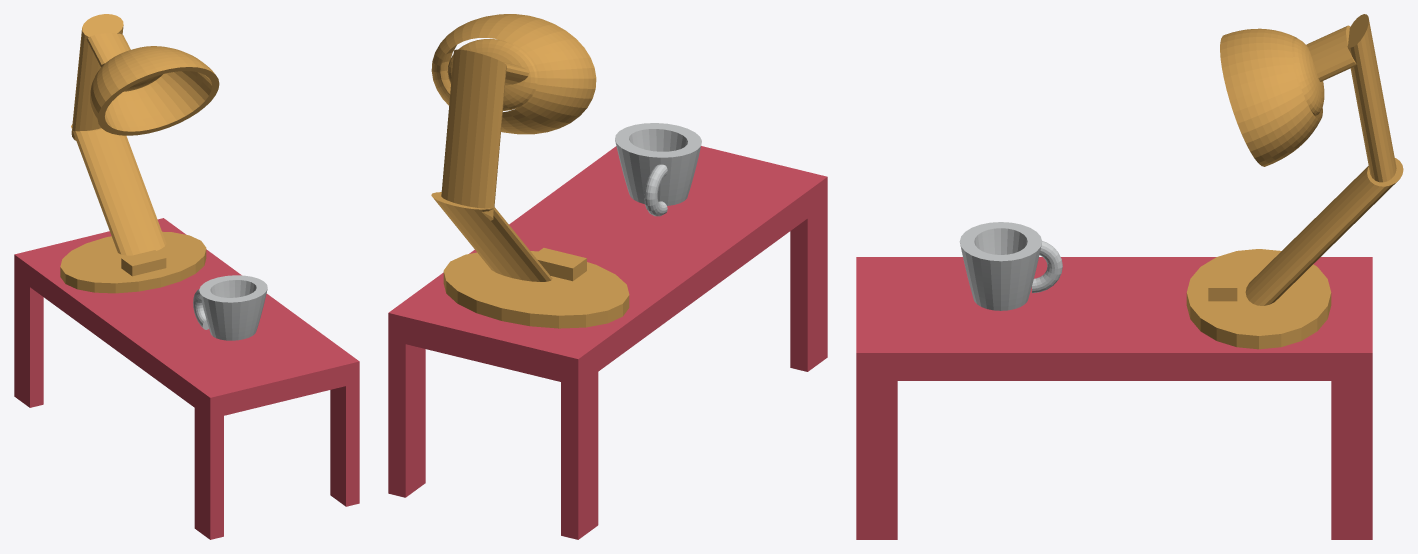
The model's file is Tremendous Borwo.glb.
The picture shows the model from 3 angles, left to right: view 1: azimuth 30°, elevation 25°; view 2: azimuth 150°, elevation 25°; view 3: azimuth 270°, elevation 25°; orthographic projection. The views are drawn at different scales.
Visible parts, largest first — view 1: Mesh_Mesh_head_geo.001_lambert2SG.001; view 2: Mesh_Mesh_head_geo.001_lambert2SG.001; view 3: Mesh_Mesh_head_geo.001_lambert2SG.001.
Part boxes in pixels (x1=…): Mesh_Mesh_head_geo.001_lambert2SG.001: x1=14, y1=14, x2=359, y2=539; Mesh_Mesh_head_geo.001_lambert2SG.001: x1=388, y1=14, x2=827, y2=539; Mesh_Mesh_head_geo.001_lambert2SG.001: x1=856, y1=14, x2=1403, y2=539.
Bounding box in the file's own units: 23 × 51 × 53.
